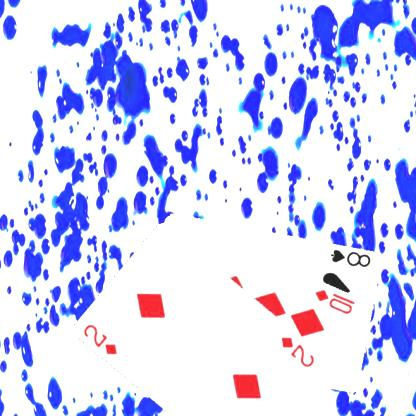10D: (312, 286, 357, 316)
2D: (81, 321, 119, 357), (278, 334, 316, 369)
8S: (328, 246, 372, 269)
